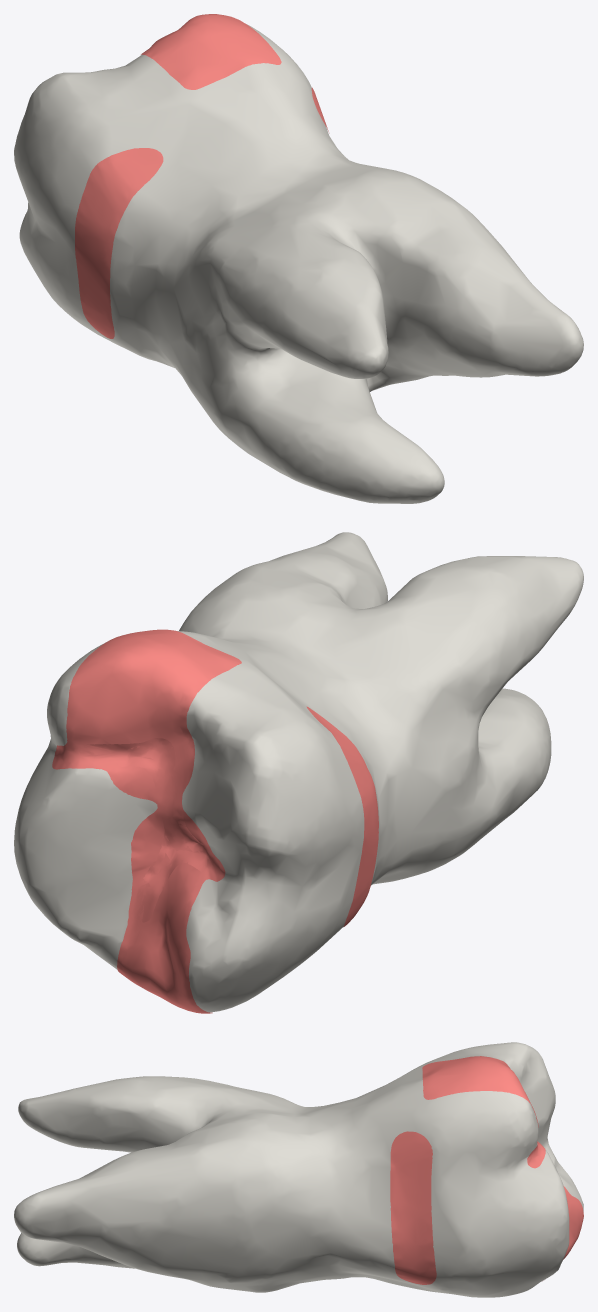
File: tooth_16_FMA55698.glb
The picture shows the model from 3 angles, top to bottom: view 1: azimuth 30°, elevation 25°; view 2: azimuth 150°, elevation 25°; view 3: azimuth 270°, elevation 25°; orthographic projection. The views are drawn at different scales.
Parts seen in each view (by area): view 1: tooth_16, class5_facial, class2_distal; view 2: tooth_16, class2_distal, class2_mesial, class1, class5_facial; view 3: tooth_16, class5_lingual, class2_distal, class2_mesial.
Boxes of the visible parts, box(x1,y1,x2,y2) form: tooth_16: box(14, 24, 583, 503); class5_facial: box(75, 148, 163, 338); class2_distal: box(141, 14, 281, 89); tooth_16: box(14, 532, 583, 1012); class2_distal: box(59, 629, 241, 815); class2_mesial: box(117, 795, 222, 1013); class1: box(52, 738, 225, 922); class5_facial: box(306, 706, 378, 926); tooth_16: box(14, 1042, 583, 1297); class5_lingual: box(390, 1131, 436, 1284); class2_distal: box(422, 1056, 543, 1151); class2_mesial: box(542, 1186, 583, 1281).
Bounding box in the file's own units: 11 × 10.96 × 23.21.
